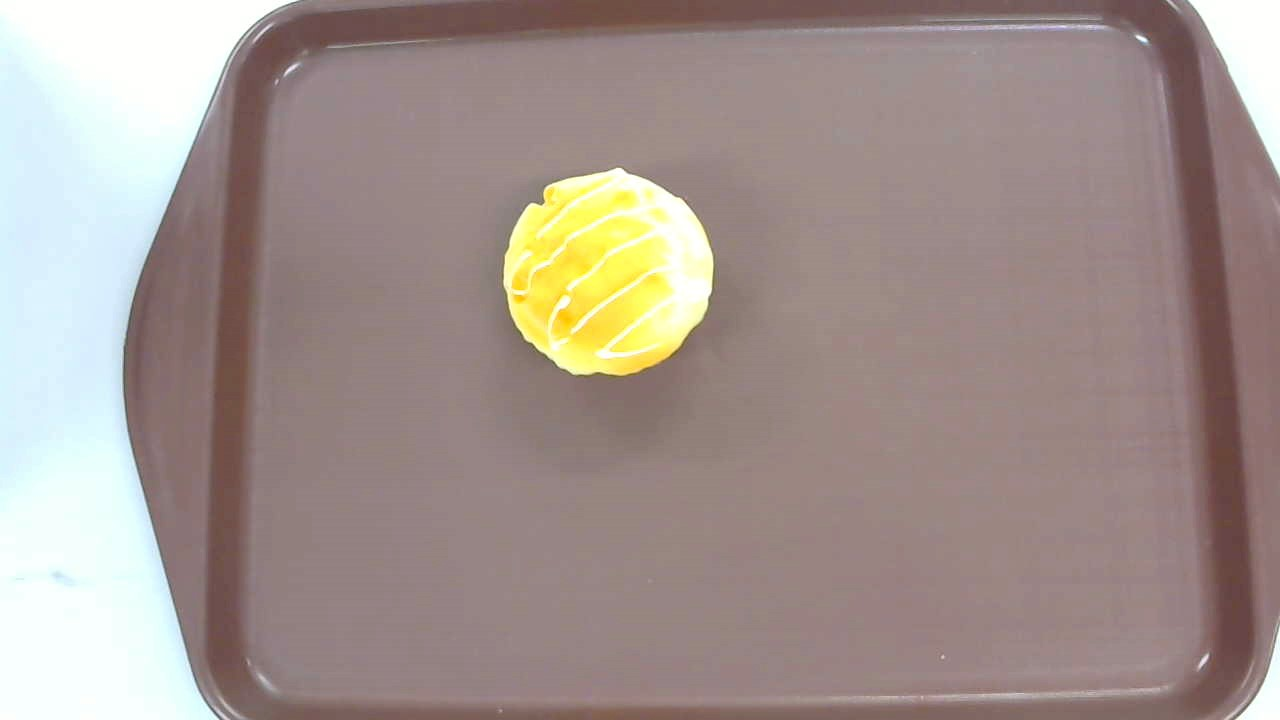cupcake: (503, 167, 715, 376)
